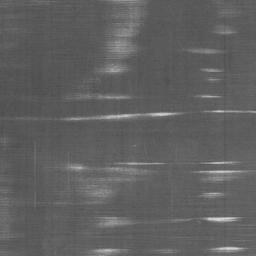Waist folding: (0, 159, 256, 256), (0, 47, 256, 123), (0, 0, 149, 76), (212, 9, 241, 37), (198, 190, 227, 200), (0, 237, 23, 241)
